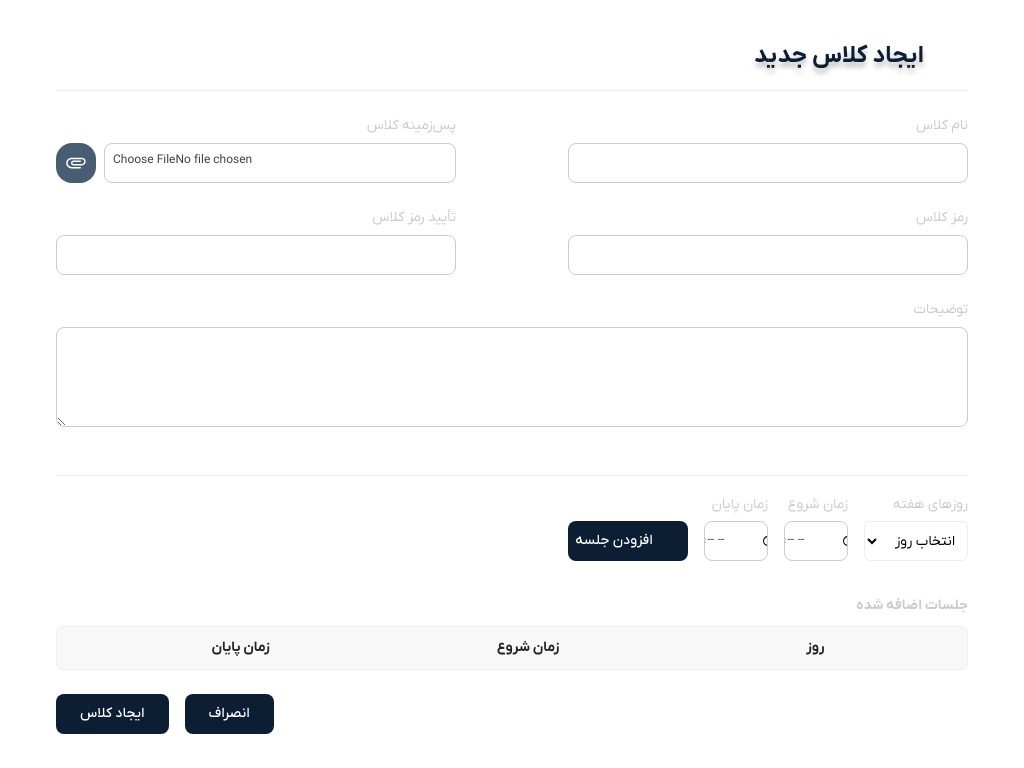
Test: ClassForm Component - Create Mode › should display a password confirmation error if passwords do not match
Type "123456@Moha" into the password field labelled "رمز کلاس" at coordinates (768, 255), box [568, 235, 968, 275]
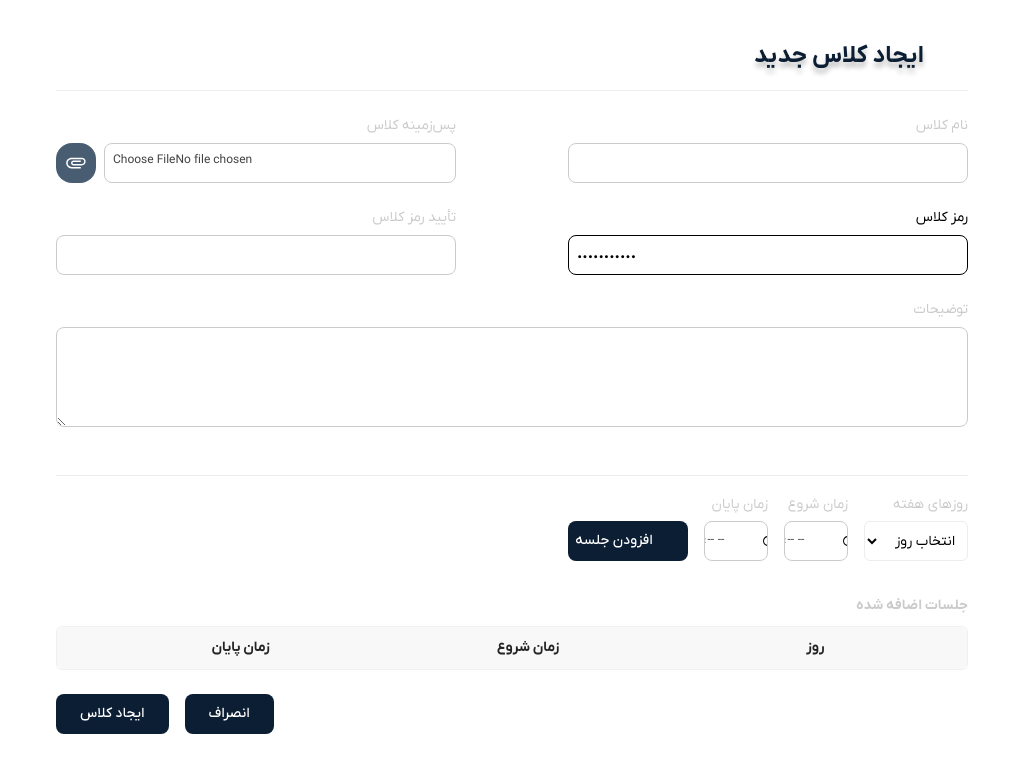
Type "654321@Moha" into the password field labelled "تأیید رمز کلاس" at coordinates (256, 255), box [56, 235, 456, 275]
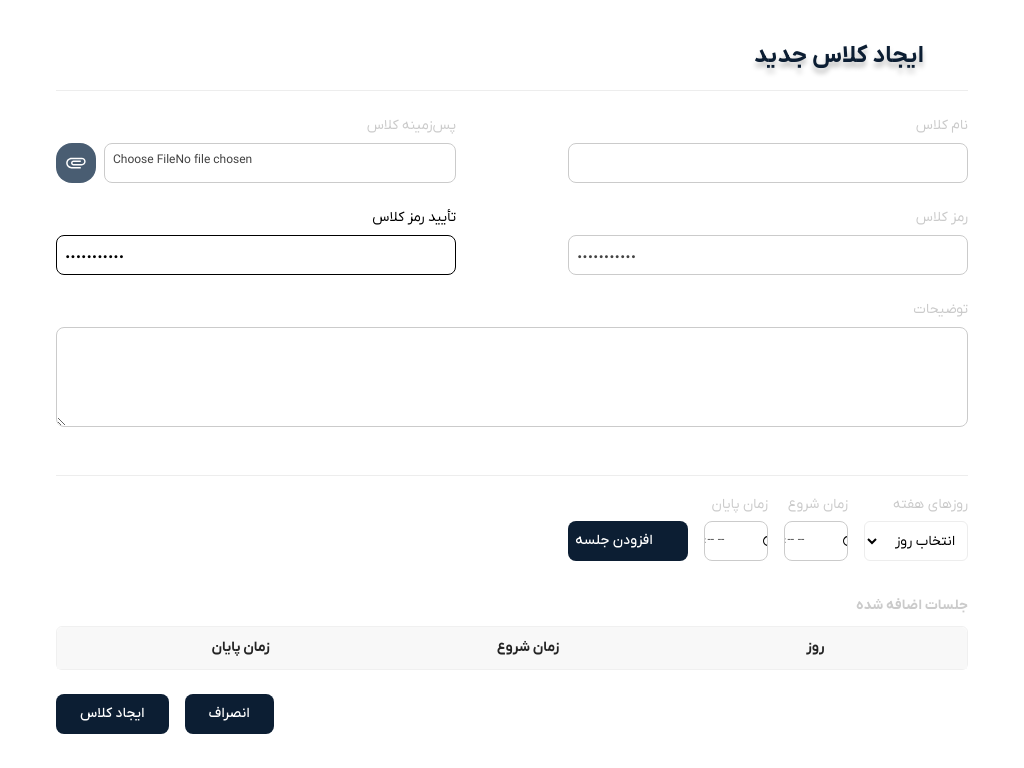
Click the button "ایجاد کلاس" at coordinates (112, 714), box [56, 694, 168, 734]
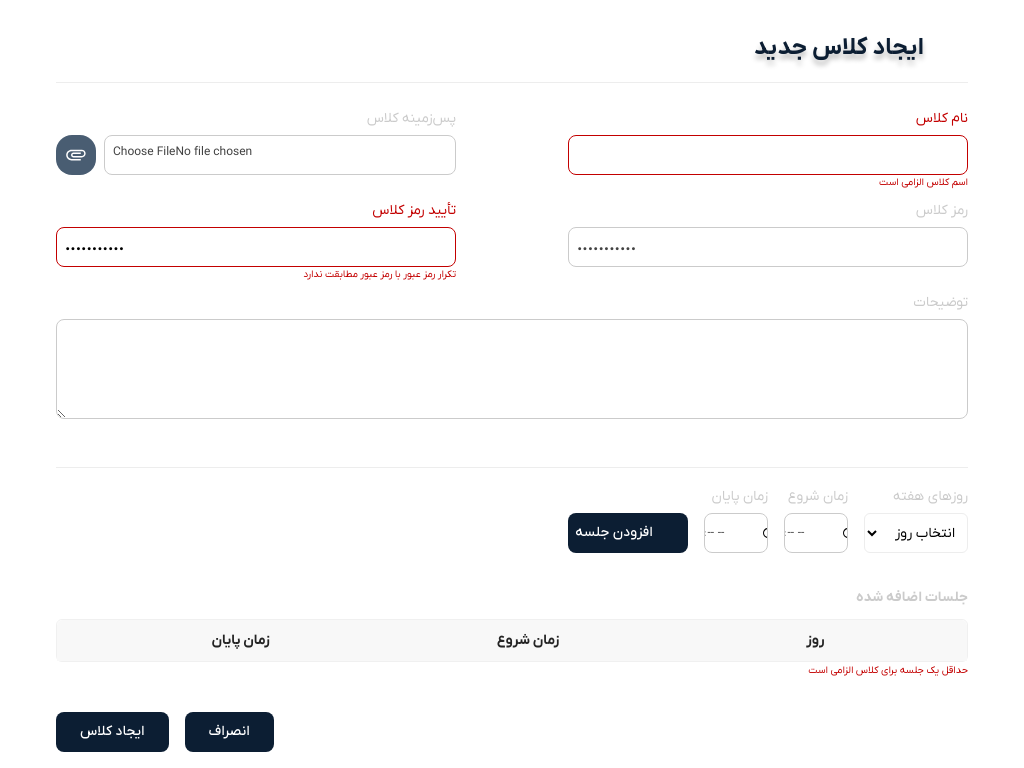
Now the text "تکرار رمز عبور با رمز عبور مطابقت ندارد" is shown, box [303, 266, 456, 284]
